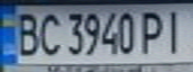0: (115, 8, 139, 55)
3: (63, 9, 84, 56)
4: (100, 9, 121, 56)
9: (81, 9, 103, 56)
B: (9, 8, 42, 57)
C: (36, 9, 63, 57)
I: (160, 6, 193, 55)
P: (136, 7, 169, 55)
